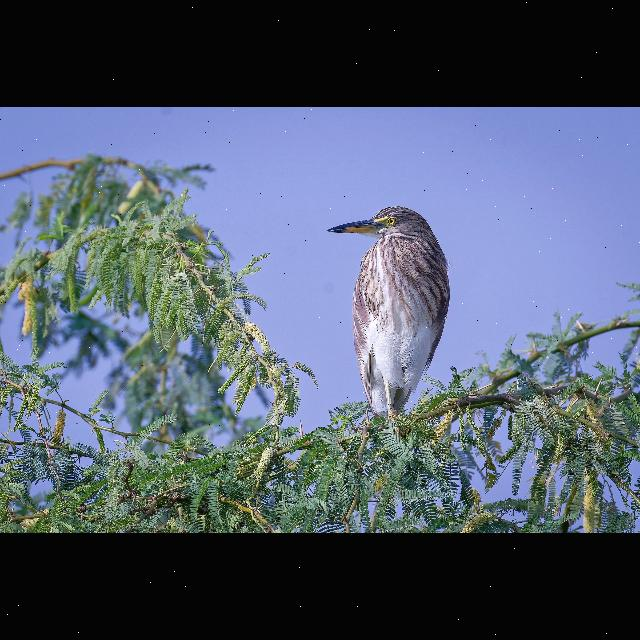heron: (328, 201, 452, 423)
